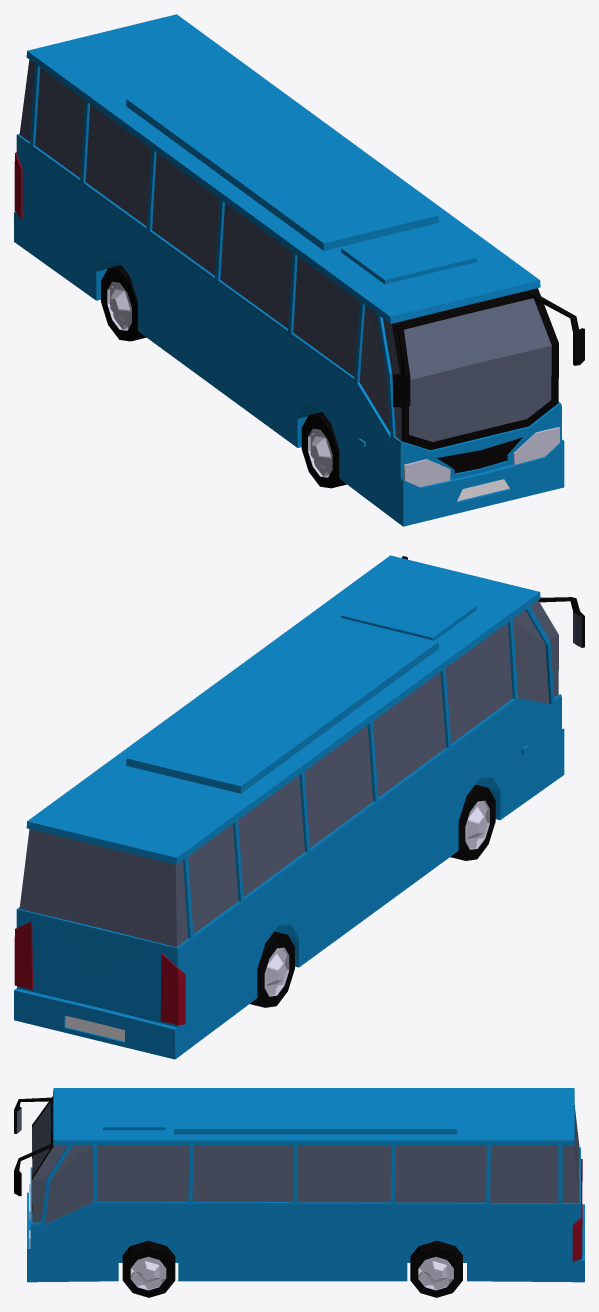
The model's file is mod-onibus.gltf.
3 renders of one model, top to bottom at view 1: azimuth 30°, elevation 25°; view 2: azimuth 150°, elevation 25°; view 3: azimuth 270°, elevation 25°, orthographic. The views are drawn at different scales.
Parts seen in each view (by area): view 1: Bus, Bus wheel front left; view 2: Bus, Bus wheel front left; view 3: Bus, Bus wheel front left.
Part boxes in pixels (box(x1,y1,x2,y2)): Bus: box(14, 14, 584, 526); Bus wheel front left: box(101, 265, 346, 488); Bus: box(14, 555, 584, 1059); Bus wheel front left: box(250, 784, 495, 1007); Bus: box(14, 1088, 584, 1282); Bus wheel front left: box(122, 1240, 462, 1297).
Size of the model in its own units: 3.36 by 3.76 by 12.05.
